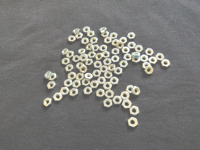nut: (128, 118, 139, 129), (130, 106, 140, 117), (122, 100, 133, 110), (103, 99, 114, 109), (83, 87, 94, 96), (132, 87, 142, 96), (54, 93, 63, 103), (70, 88, 79, 98), (90, 81, 100, 90), (48, 81, 57, 91), (162, 59, 171, 68), (145, 66, 154, 75), (146, 48, 155, 57), (113, 96, 122, 105), (121, 92, 130, 101), (110, 77, 119, 86), (105, 90, 114, 99), (104, 71, 113, 80), (85, 72, 94, 81), (72, 80, 81, 89), (60, 87, 69, 96), (96, 89, 104, 99), (44, 98, 52, 108), (141, 54, 149, 63), (114, 68, 123, 76), (103, 83, 112, 91), (111, 55, 120, 63), (68, 72, 76, 81), (76, 73, 84, 82), (66, 64, 74, 73), (79, 66, 88, 74), (142, 62, 152, 69), (119, 61, 129, 68), (150, 57, 158, 65), (126, 86, 134, 94), (124, 54, 132, 62), (98, 77, 106, 85), (104, 58, 112, 66), (112, 48, 120, 56), (100, 65, 108, 73), (93, 70, 101, 78), (94, 61, 102, 69), (64, 80, 72, 88), (68, 35, 76, 43), (49, 74, 57, 82), (80, 54, 88, 62), (62, 58, 70, 66), (110, 32, 118, 40), (116, 41, 124, 49), (104, 37, 112, 45), (103, 51, 111, 59), (66, 51, 74, 59), (156, 54, 165, 61), (135, 45, 144, 52), (132, 57, 141, 64), (77, 62, 86, 69), (93, 44, 100, 53), (128, 32, 136, 39), (128, 42, 136, 49), (122, 47, 130, 54), (108, 64, 115, 72), (86, 59, 94, 66), (100, 45, 107, 53), (119, 37, 127, 44), (76, 32, 83, 40), (88, 52, 96, 59), (81, 38, 89, 45), (62, 48, 69, 56), (45, 71, 51, 80), (88, 31, 95, 38), (91, 37, 98, 44), (112, 40, 119, 47), (96, 54, 103, 61), (86, 44, 93, 51), (84, 26, 91, 33), (82, 80, 90, 86), (73, 55, 79, 63), (132, 52, 141, 57), (73, 28, 80, 34), (100, 27, 107, 33), (78, 49, 85, 55), (102, 32, 110, 37)
